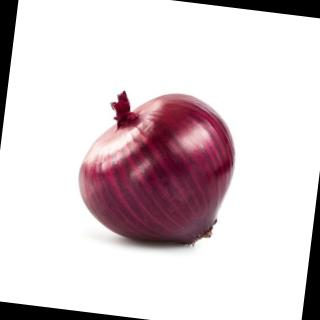Bawang Merah: (68, 80, 246, 256)
